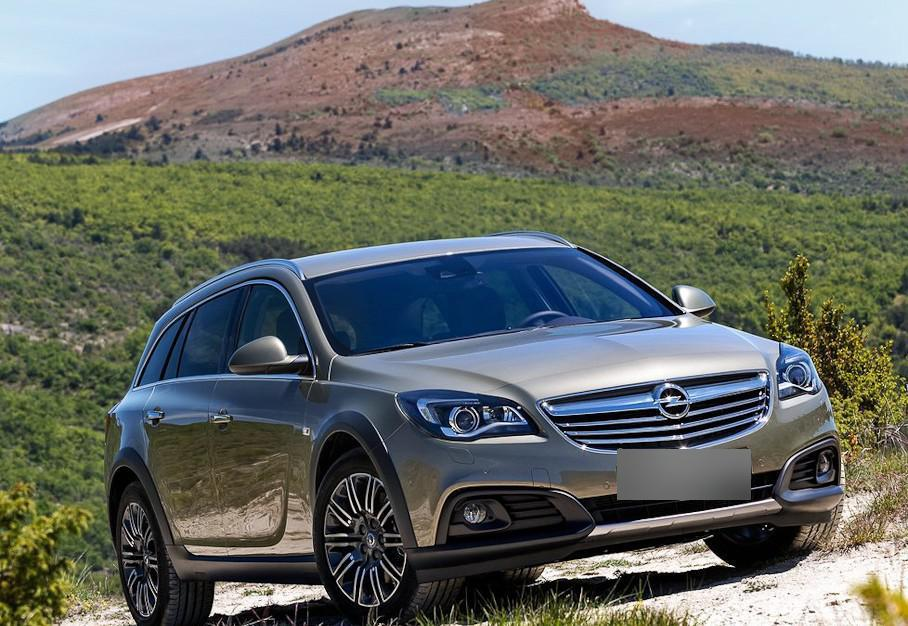Wagon: (104, 230, 845, 626)
